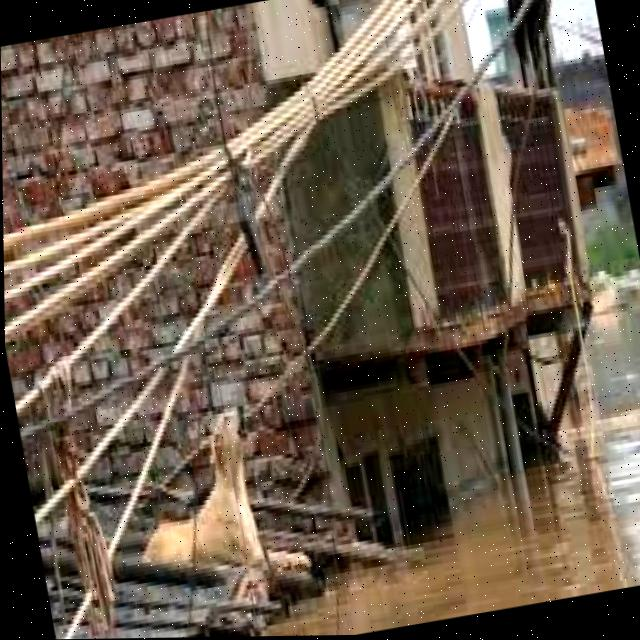dog: (110, 402, 284, 605)
